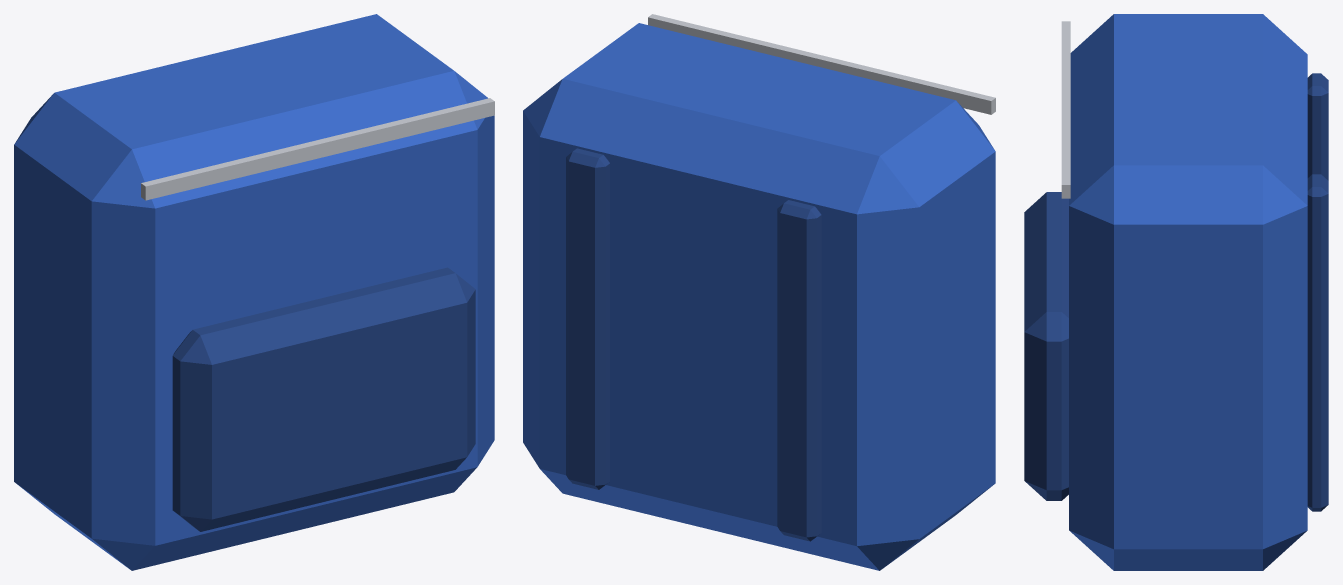
The model's file is backpack.fbx.
The picture shows the model from 3 angles, left to right: view 1: azimuth 30°, elevation 25°; view 2: azimuth 150°, elevation 25°; view 3: azimuth 270°, elevation 25°; orthographic projection. The views are drawn at different scales.
Parts seen in each view (by area): view 1: backpack; view 2: backpack; view 3: backpack.
Part boxes in pixels (<box>): backpack: <box>14,14,494,570</box>; backpack: <box>523,14,995,570</box>; backpack: <box>1024,14,1328,570</box>.
Size of the model in its own units: 0.3 by 0.3 by 0.204.
